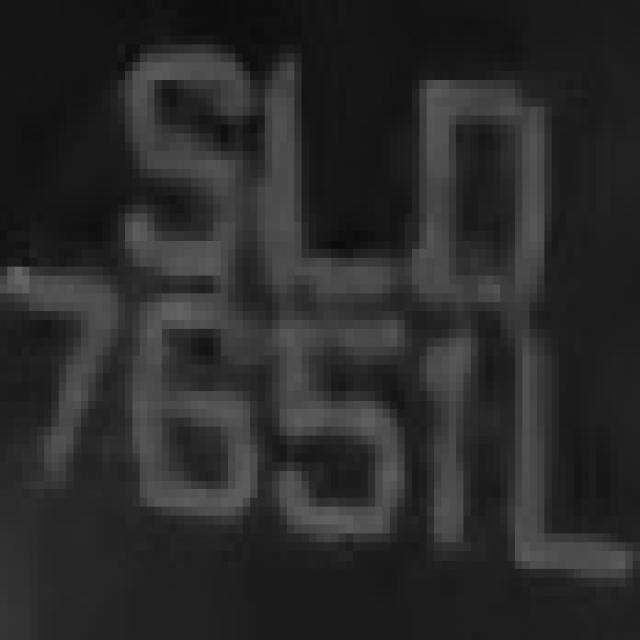1: (397, 311, 486, 578)
5: (272, 276, 397, 534)
6: (140, 267, 250, 533)
7: (0, 240, 125, 524)
D: (404, 53, 552, 338)
L: (478, 302, 640, 614), (236, 36, 404, 320)
S: (103, 35, 243, 294)
